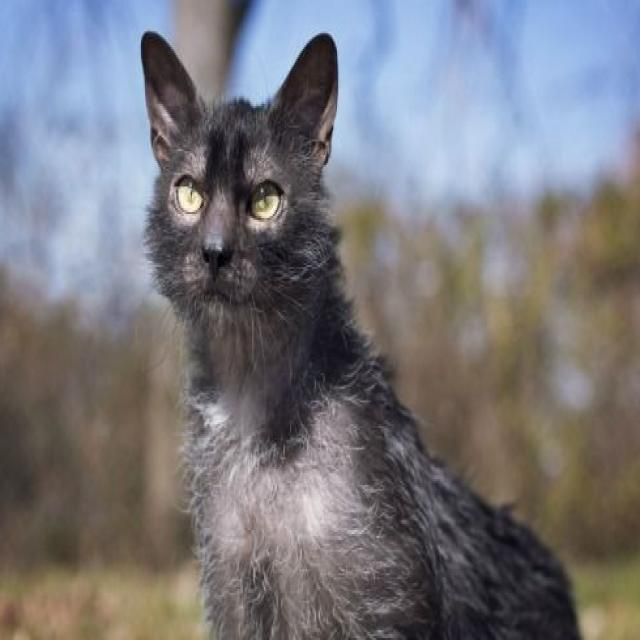Lykoi: (137, 23, 597, 640)
